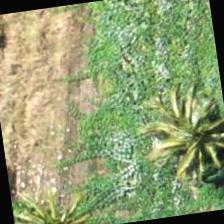Kelapa_Sawit: (140, 87, 223, 189), (10, 180, 99, 223)
